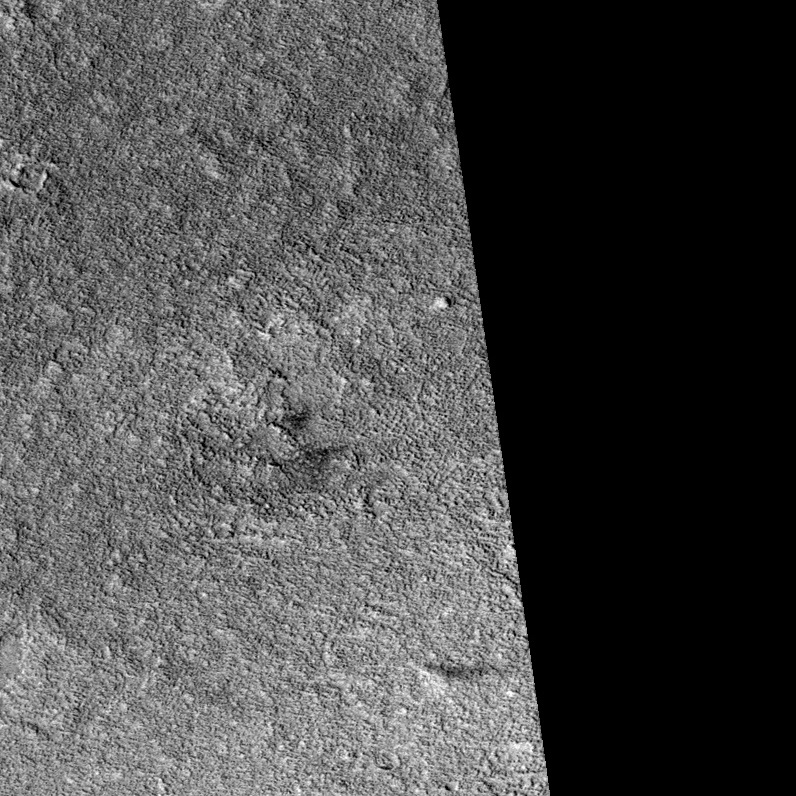dust_devil: (405, 657, 491, 691)
